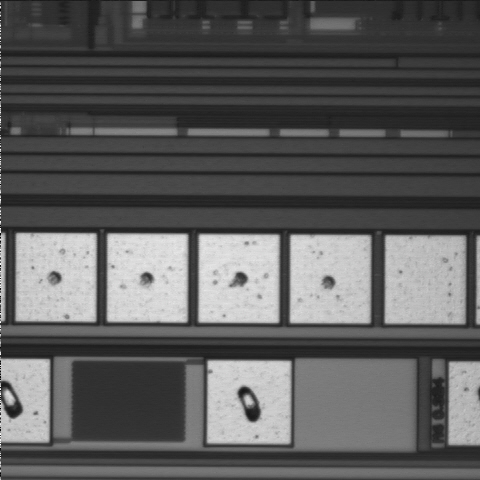pad: (107, 234, 188, 322), (16, 233, 96, 321), (199, 235, 279, 323), (290, 235, 370, 323), (385, 236, 464, 323), (208, 361, 290, 443)
